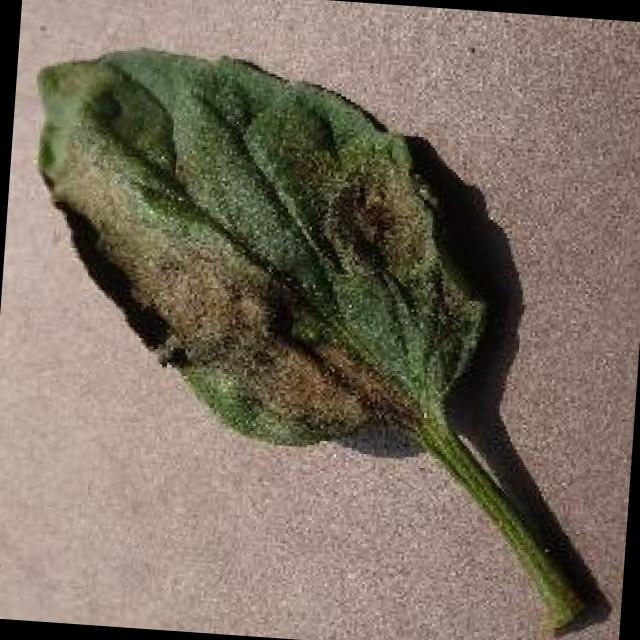Tomato_Late_Blight: (28, 120, 450, 446)
